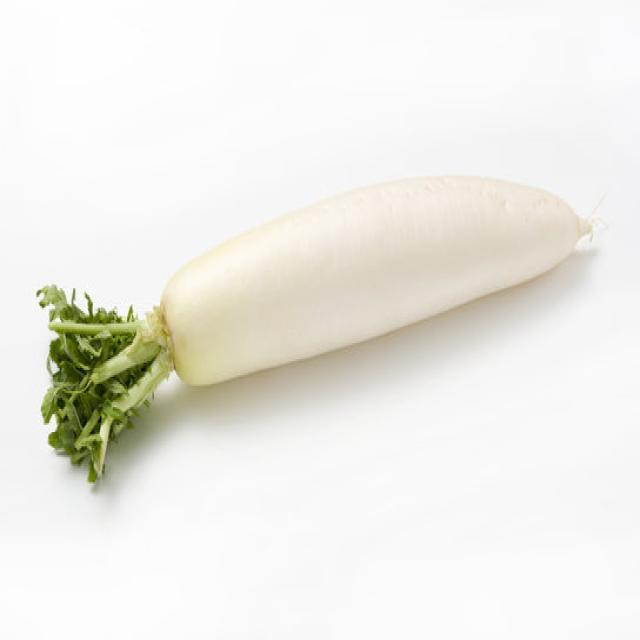Coriander Leaves: (35, 281, 171, 483)
Radish: (35, 169, 602, 482)
